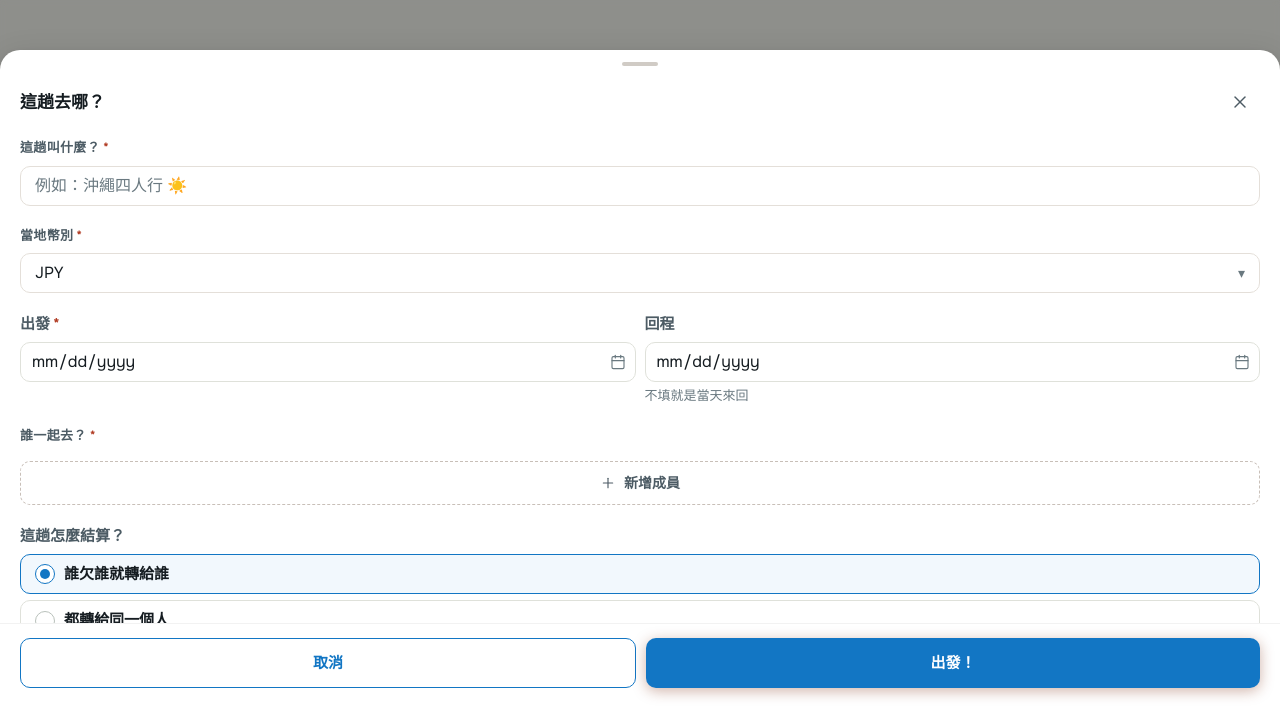
Test: I-③　成員加進來之後，錯誤要跟著清掉 › 觸發「至少要有一位成員」→ 加一位 → 紅字消失
The width and height of the screenshot is (1280, 720).
Expected: the heading "這趟去哪？" is shown, [20,90,105,115]
Type "ZZ 測試" into the field with placeholder "例如：沖繩四人行 ☀️" at (640, 186), box [20,166,1260,206]
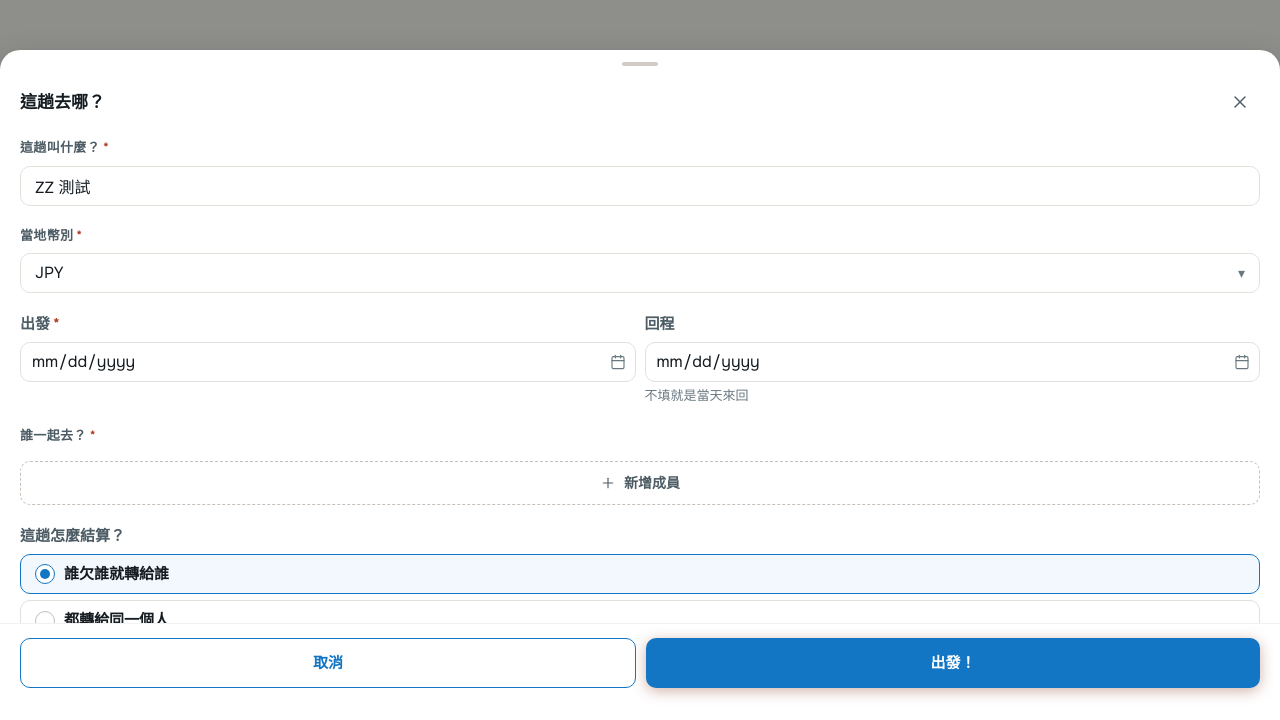
Click the button "出發！" at (953, 663), box [646,638,1260,688]
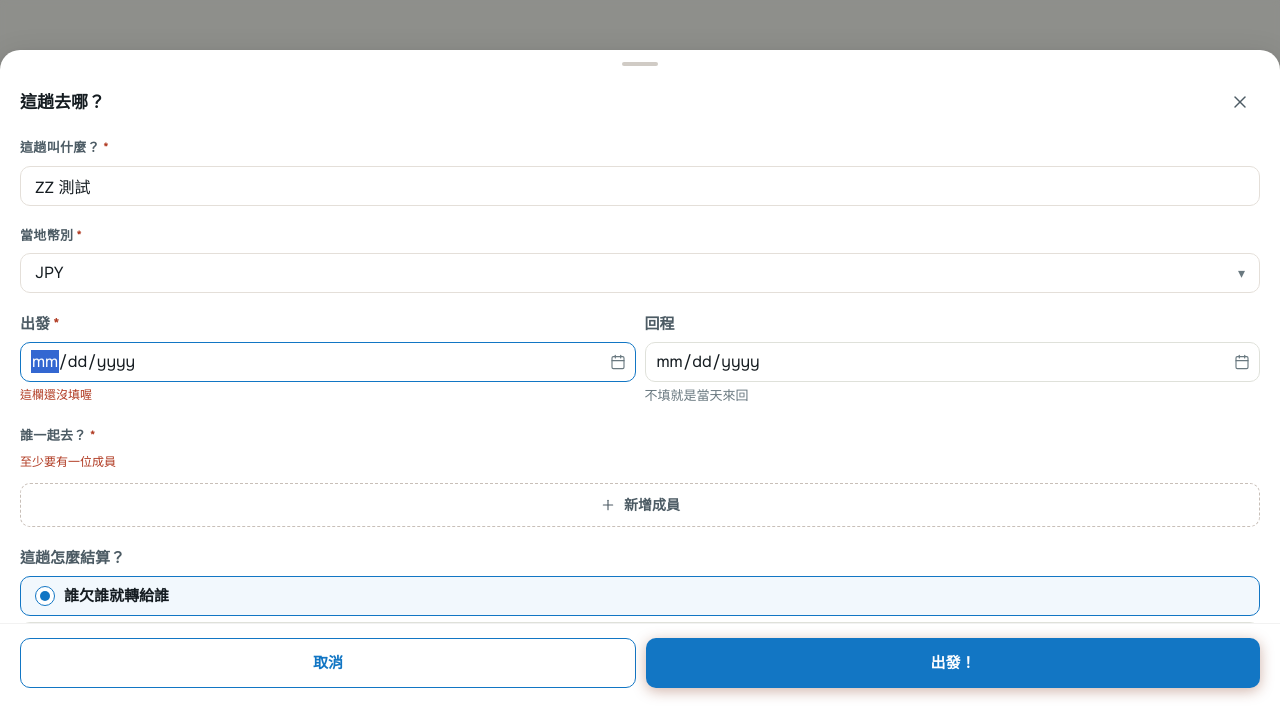
Result: the text "至少要有一位成員" is shown at [20,454,116,470]
Click the button "新增成員" at (640, 505), box [20,483,1260,527]
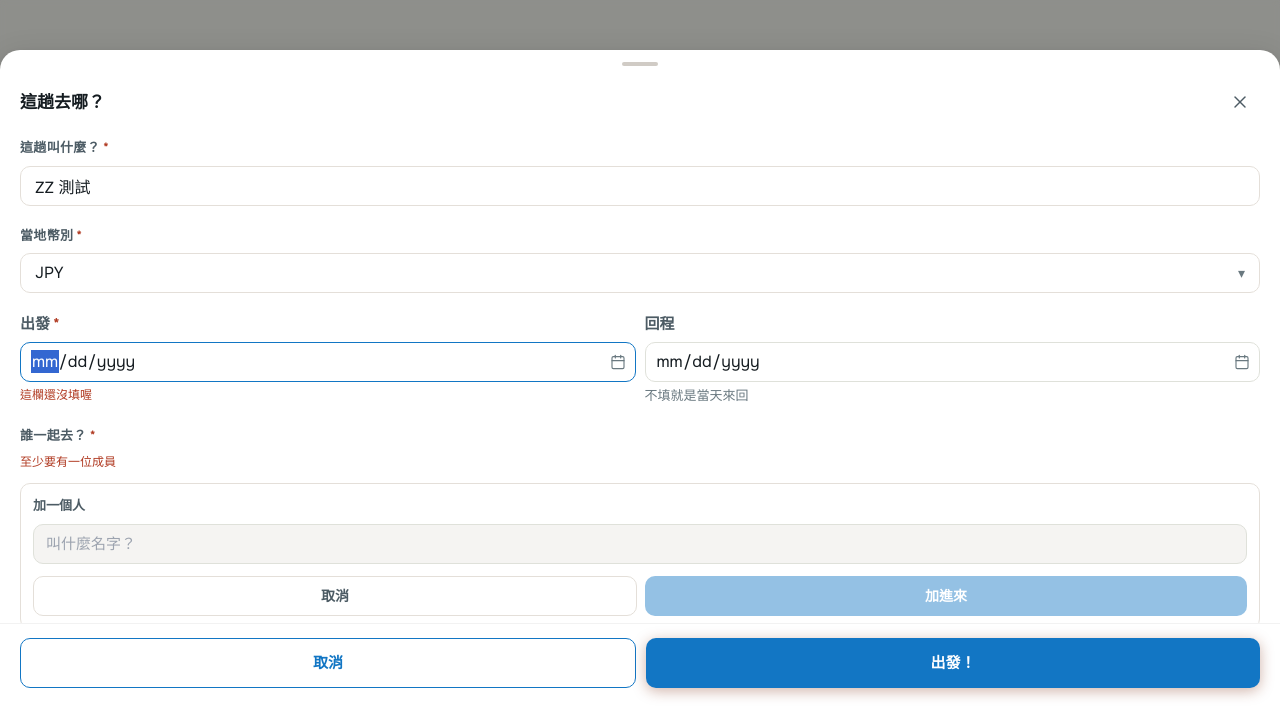
Type "小美" into the field with placeholder "叫什麼名字？" at (640, 544), box [33,524,1247,564]
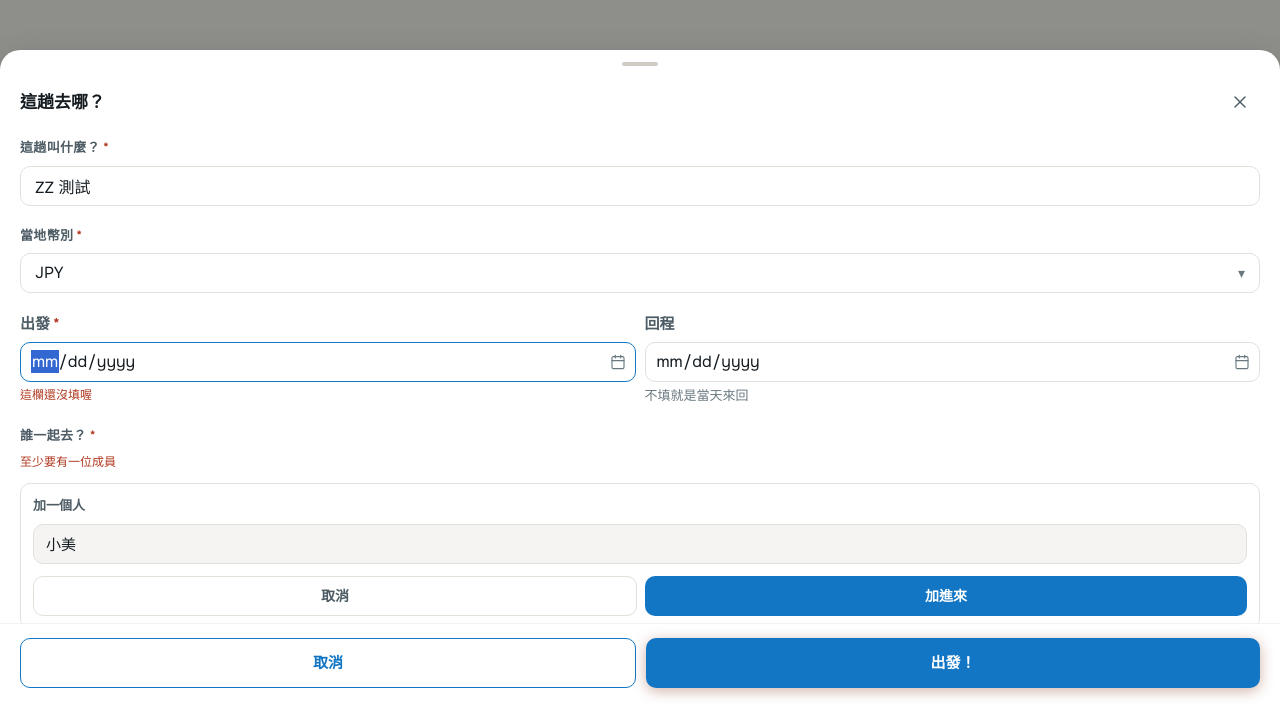
Click the button "加進來" at (946, 596), box [645,576,1247,616]
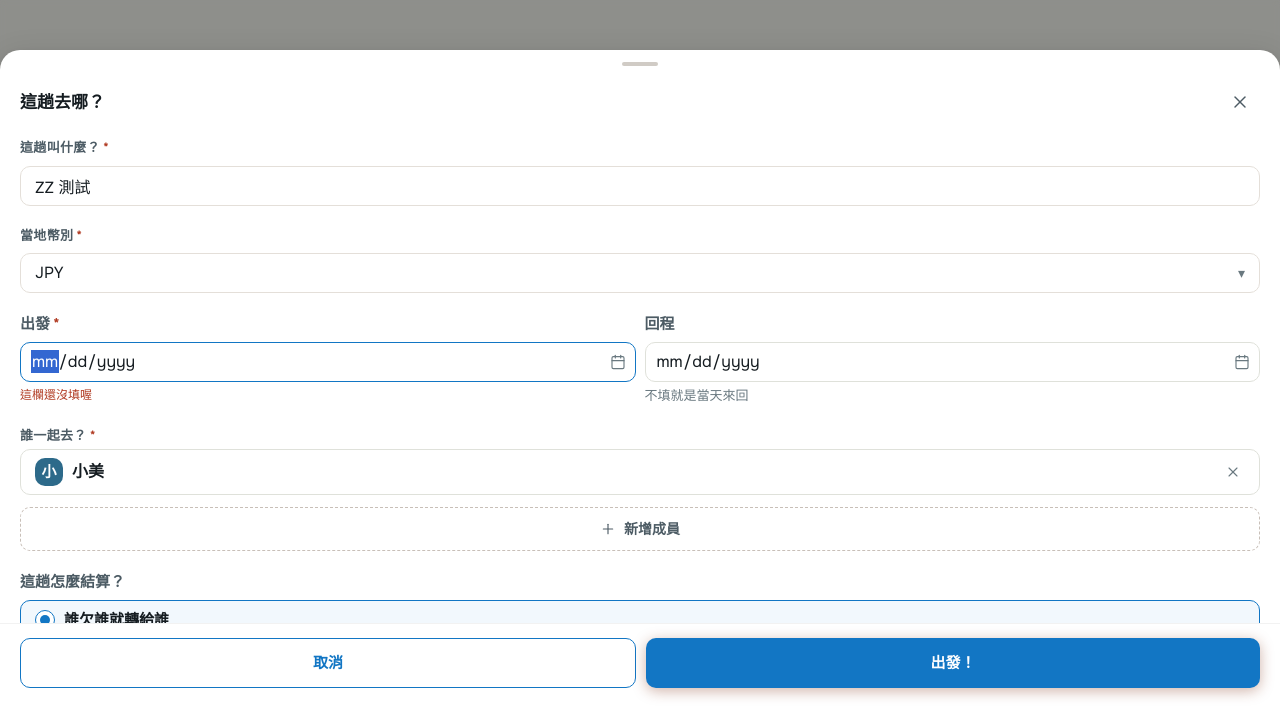
Result: the text "至少要有一位成員" is gone
